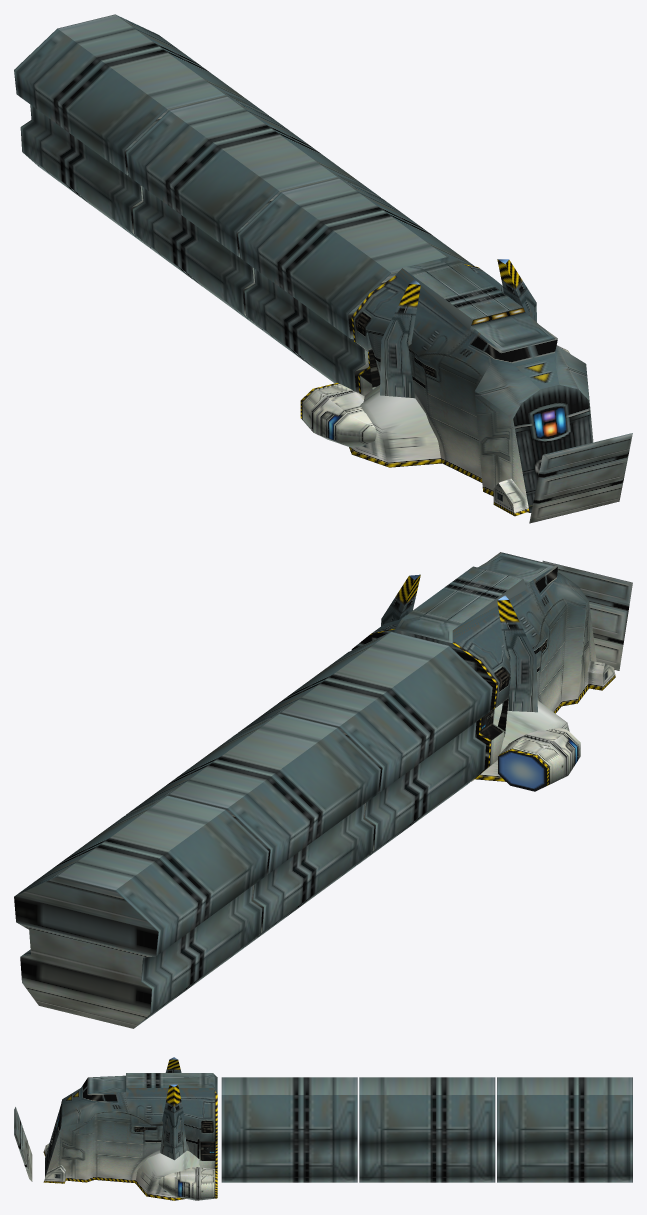
Rendered from utl11_static.obj.
3 renders of one model, top to bottom at view 1: azimuth 30°, elevation 25°; view 2: azimuth 150°, elevation 25°; view 3: azimuth 270°, elevation 25°, orthographic. The views are drawn at different scales.
Parts seen in each view (by area): view 1: frm-fuselg1_1, frm-fuselg3_1, frm-fuselg2_1, frm-fuselg_1, frm-tractr_1, frm-bthrust0_1, frm-brthrust_1, frm-rtthrust_1, frm-ltthrust_1, frm-rbtractr1_1; view 2: frm-fuselg3_1, frm-fuselg2_1, frm-fuselg_1, frm-fuselg1_1, frm-brthrust_1, frm-tractr_1, frm-rtthrust_1, frm-bthrust0_1, frm-ltthrust_1, frm-rbtractr1_1; view 3: frm-fuselg_1, frm-fuselg2_1, frm-fuselg3_1, frm-fuselg1_1, frm-bthrust0_1, frm-blthrust_1, frm-ltthrust_1, frm-tractr_1, frm-lbtractr1_1.
Boxes of the visible parts, x1,y1,x2,y2 form: frm-fuselg1_1: [351, 256, 593, 512]; frm-fuselg3_1: [14, 14, 268, 246]; frm-fuselg2_1: [126, 96, 380, 328]; frm-fuselg_1: [238, 178, 474, 392]; frm-tractr_1: [529, 433, 632, 523]; frm-bthrust0_1: [349, 385, 441, 467]; frm-brthrust_1: [300, 383, 376, 447]; frm-rtthrust_1: [380, 279, 420, 398]; frm-ltthrust_1: [497, 259, 536, 322]; frm-rbtractr1_1: [493, 478, 529, 516]; frm-fuselg3_1: [14, 795, 268, 1028]; frm-fuselg2_1: [126, 713, 380, 946]; frm-fuselg_1: [238, 632, 492, 864]; frm-fuselg1_1: [351, 552, 596, 781]; frm-brthrust_1: [498, 727, 580, 791]; frm-tractr_1: [542, 560, 632, 670]; frm-rtthrust_1: [497, 595, 537, 712]; frm-bthrust0_1: [475, 700, 569, 781]; frm-ltthrust_1: [381, 574, 420, 626]; frm-rbtractr1_1: [587, 661, 615, 690]; frm-fuselg_1: [221, 1077, 357, 1182]; frm-fuselg2_1: [359, 1077, 495, 1182]; frm-fuselg3_1: [497, 1077, 632, 1182]; frm-fuselg1_1: [45, 1073, 217, 1182]; frm-bthrust0_1: [135, 1150, 199, 1200]; frm-blthrust_1: [158, 1167, 217, 1200]; frm-ltthrust_1: [160, 1084, 186, 1160]; frm-tractr_1: [14, 1107, 32, 1181]; frm-lbtractr1_1: [43, 1165, 65, 1183].
Bounding box in the file's own units: 7.26 × 4.27 × 24.81.
